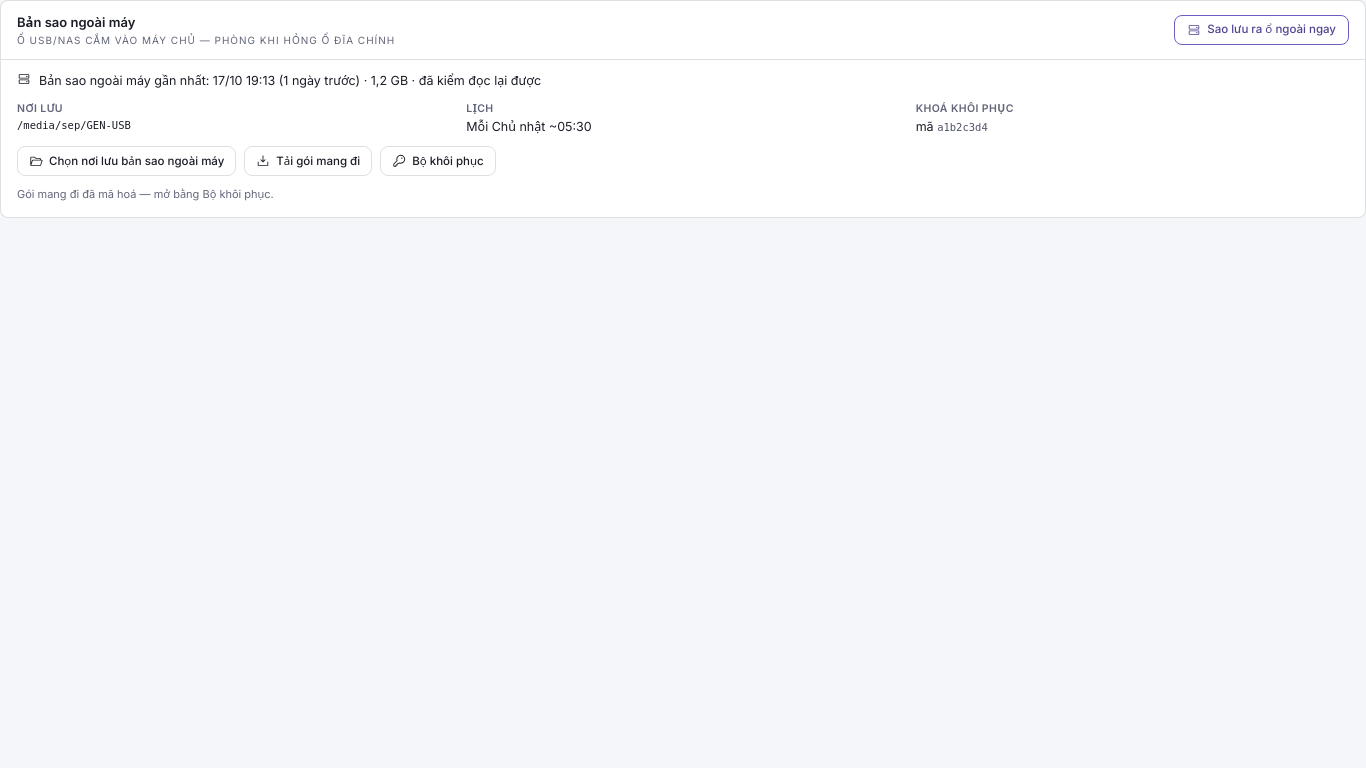
Test case: Bản sao ngoài máy — thẻ › 409 OFFSITE_UNAVAILABLE ⇒ hiện manual_command trong khối mã có nút Chép
Click the button "Chọn nơi lưu bản sao ngoài máy". click: (127, 161)
box: [17,146,236,176]
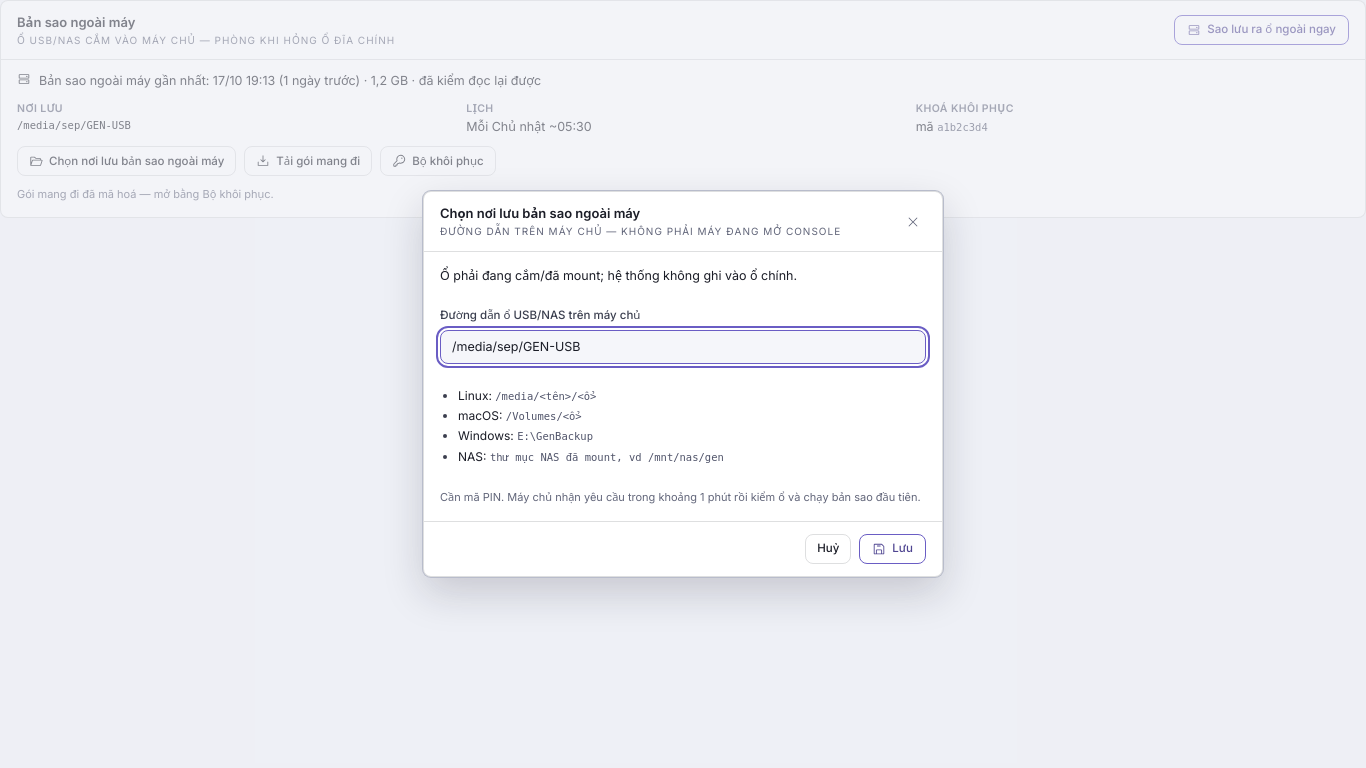
Replace the text in the field labelled "Đường dẫn ổ USB/NAS trên máy chủ" with "E:\\GenBackup". click: (683, 346)
box: [440,330,926,364]
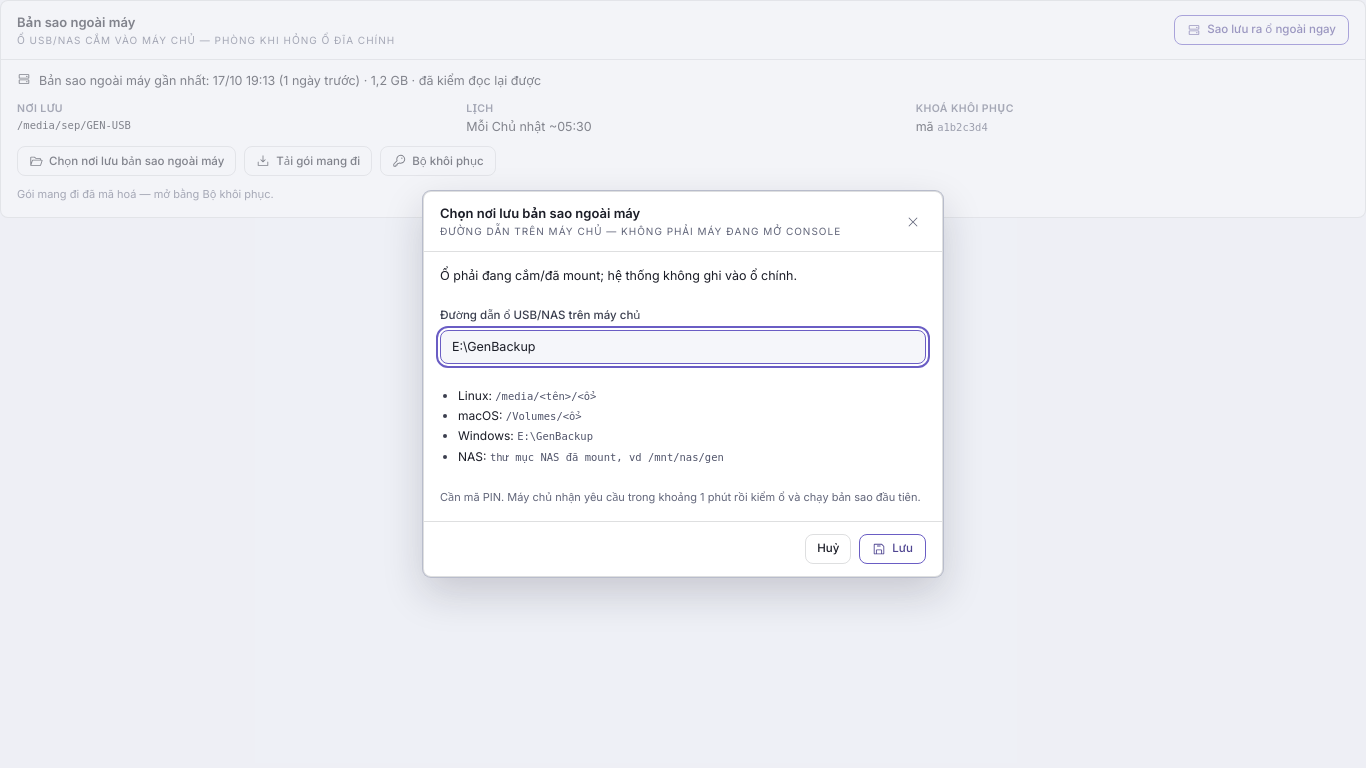
Click the button "Lưu". click: (893, 549)
box: [859,534,926,564]
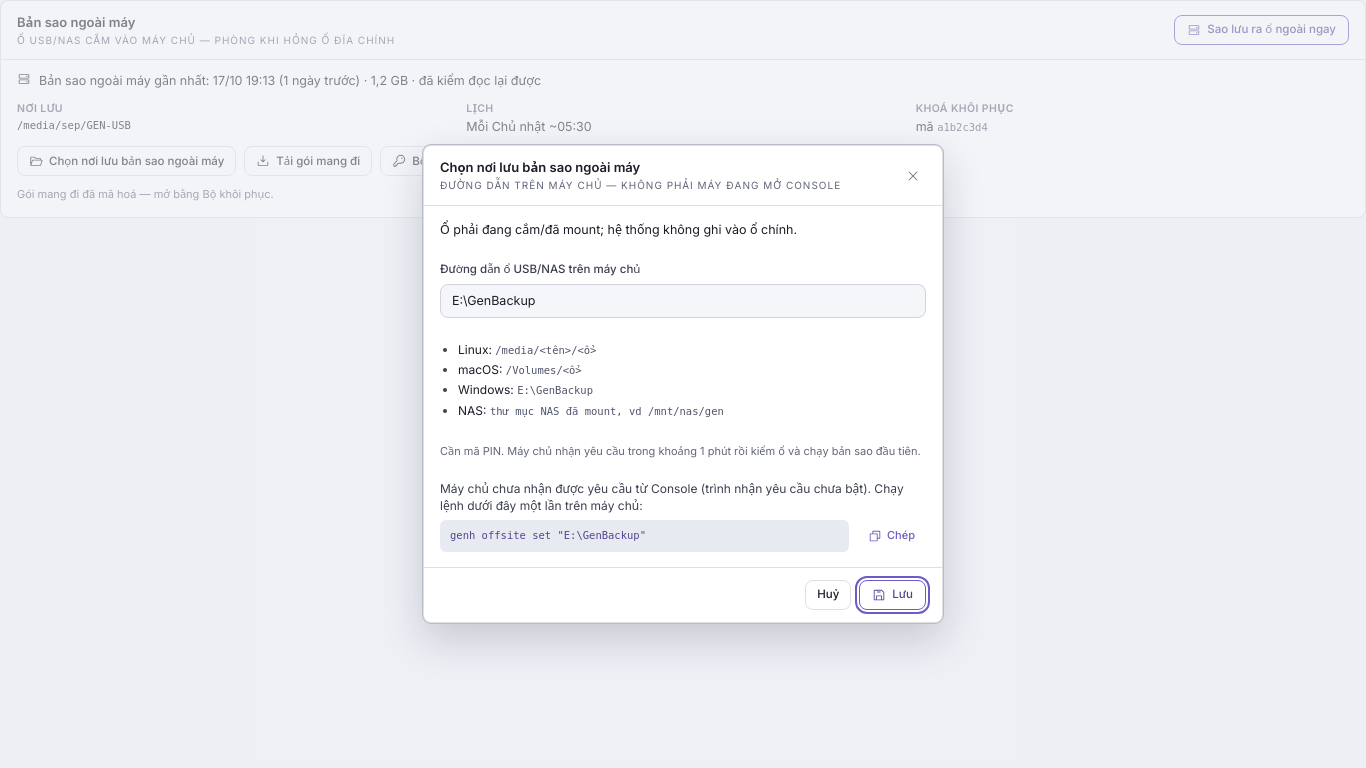
Expected: the text "genh offsite set \"E:\\GenBackup\"" is shown, [440,520,849,552]
Expected: the element with test id "offsite-manual-command" shows "Chạy lệnh dưới đây một lần trên máy chủ:", [440,481,904,513]
Expected: the button with aria-label "Chép lệnh" is shown, [857,522,926,550]
